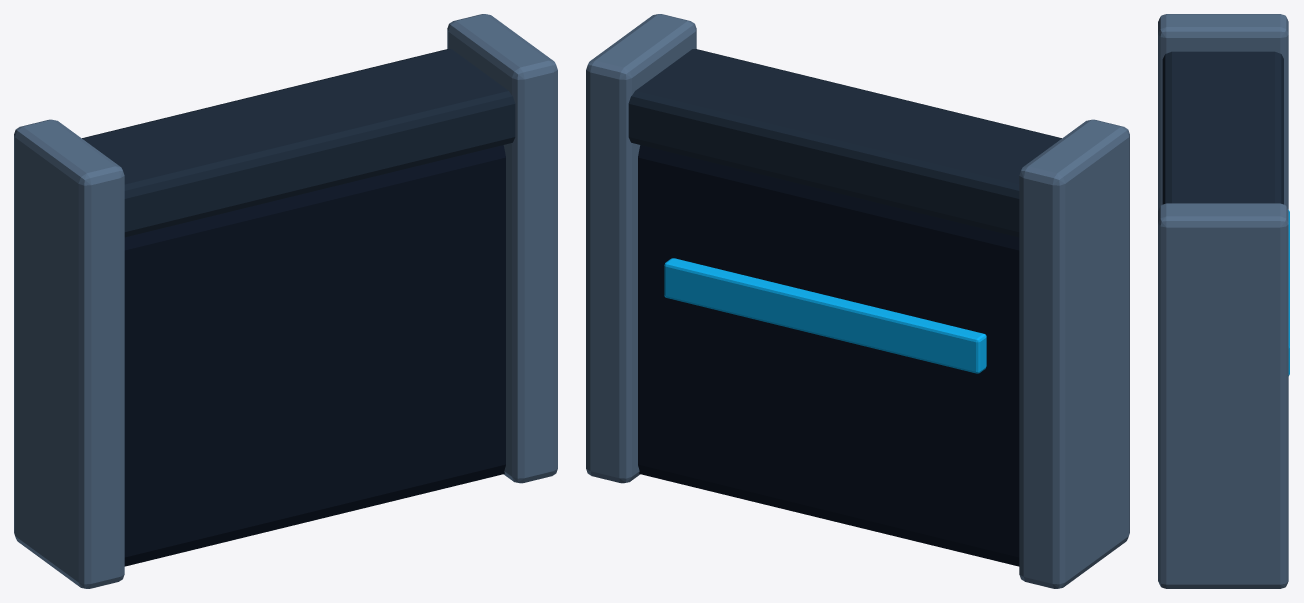
File: skirmish_wall.obj
The picture shows the model from 3 angles, left to right: view 1: azimuth 30°, elevation 25°; view 2: azimuth 150°, elevation 25°; view 3: azimuth 270°, elevation 25°; orthographic projection. The views are drawn at different scales.
Parts seen in each view (by area): view 1: skirmish_wall_core_M_navy, skirmish_wall_end_r_M_steel, skirmish_wall_cap_M_gunmetal, skirmish_wall_end_l_M_steel; view 2: skirmish_wall_core_M_navy, skirmish_wall_end_r_M_steel, skirmish_wall_cap_M_gunmetal, skirmish_wall_end_l_M_steel, skirmish_wall_signal_M_cyan; view 3: skirmish_wall_end_l_M_steel, skirmish_wall_cap_M_gunmetal, skirmish_wall_end_r_M_steel, skirmish_wall_signal_M_cyan.
Part boxes in pixels (x1,y1,x2,y2): skirmish_wall_core_M_navy: (124, 145, 505, 566); skirmish_wall_end_r_M_steel: (14, 119, 124, 588); skirmish_wall_cap_M_gunmetal: (82, 49, 515, 237); skirmish_wall_end_l_M_steel: (447, 14, 557, 483); skirmish_wall_core_M_navy: (638, 145, 1019, 566); skirmish_wall_end_r_M_steel: (1019, 119, 1129, 588); skirmish_wall_cap_M_gunmetal: (628, 49, 1061, 237); skirmish_wall_end_l_M_steel: (586, 14, 696, 483); skirmish_wall_signal_M_cyan: (664, 258, 986, 373); skirmish_wall_end_l_M_steel: (1158, 203, 1288, 588); skirmish_wall_cap_M_gunmetal: (1162, 51, 1283, 204); skirmish_wall_end_r_M_steel: (1158, 14, 1288, 210); skirmish_wall_signal_M_cyan: (1288, 209, 1289, 375).
Bounding box in the file's own units: 1.06 × 0.88 × 0.2825.
